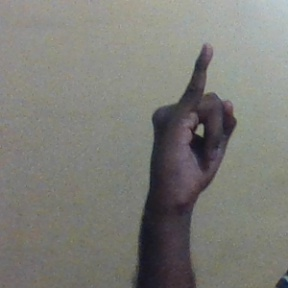I: (151, 40, 239, 202)
